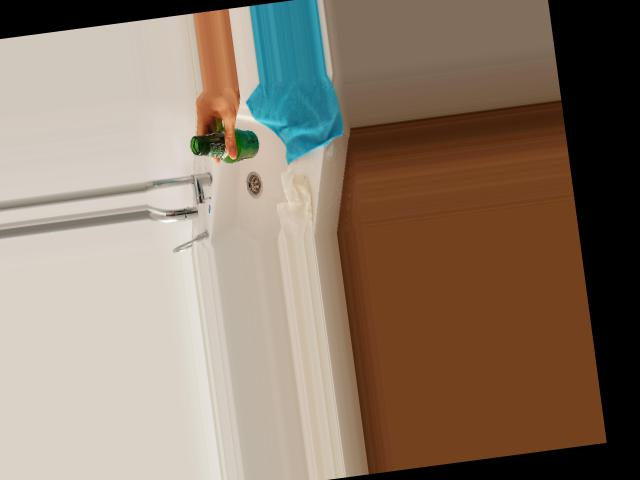beer: (189, 122, 261, 168)
